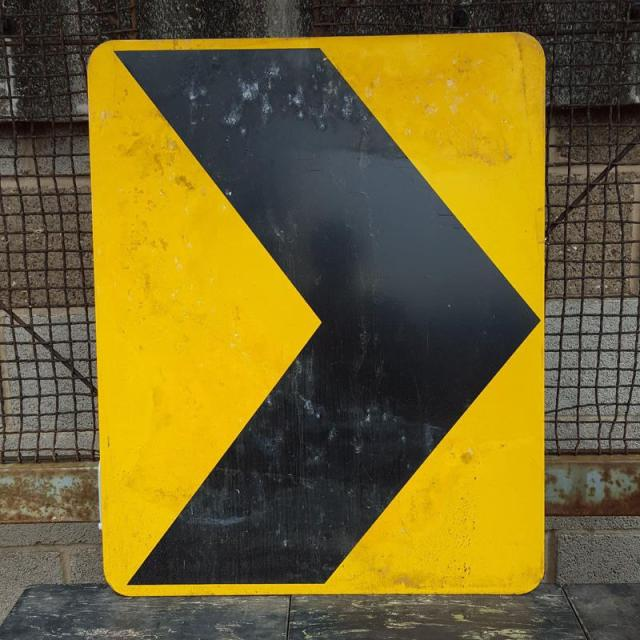chevron_right: (97, 33, 544, 585)
